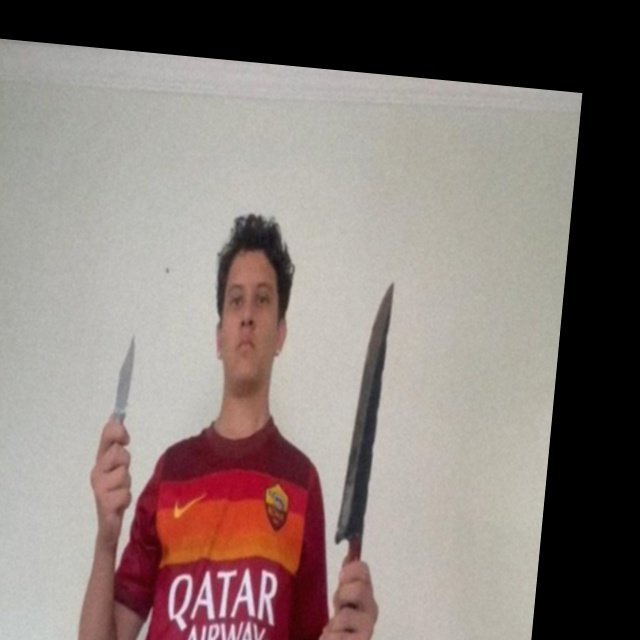Sharp-Object: (333, 273, 395, 547), (114, 327, 137, 415)
